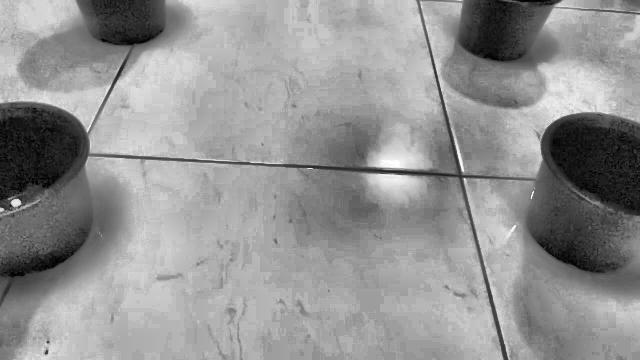pot: (526, 113, 640, 273), (0, 102, 93, 277)
